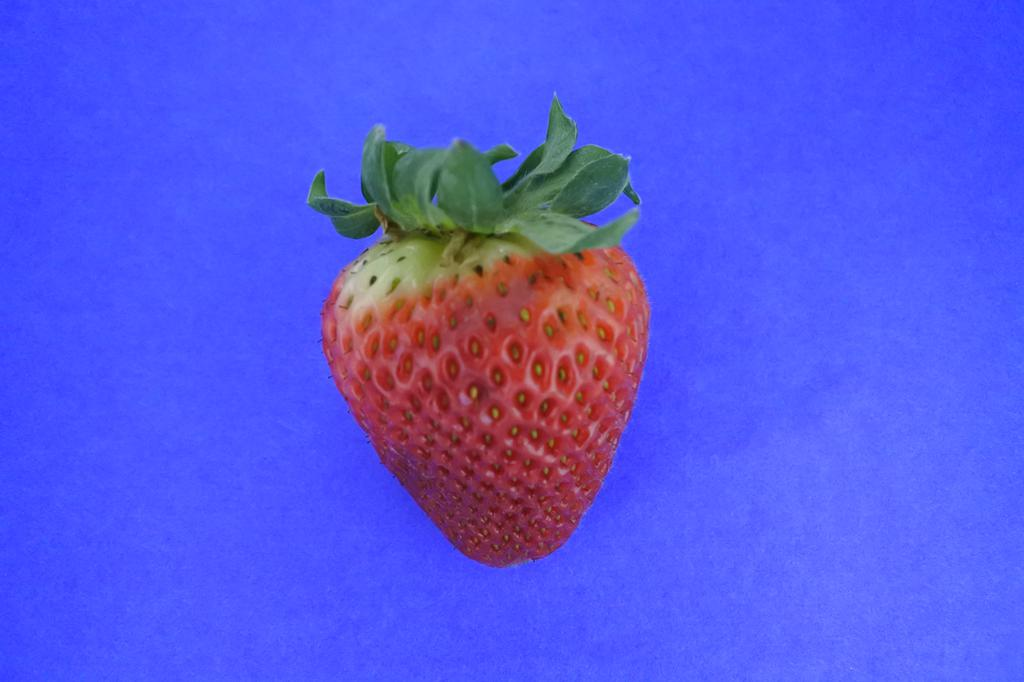red strawberry: (307, 96, 654, 566)
